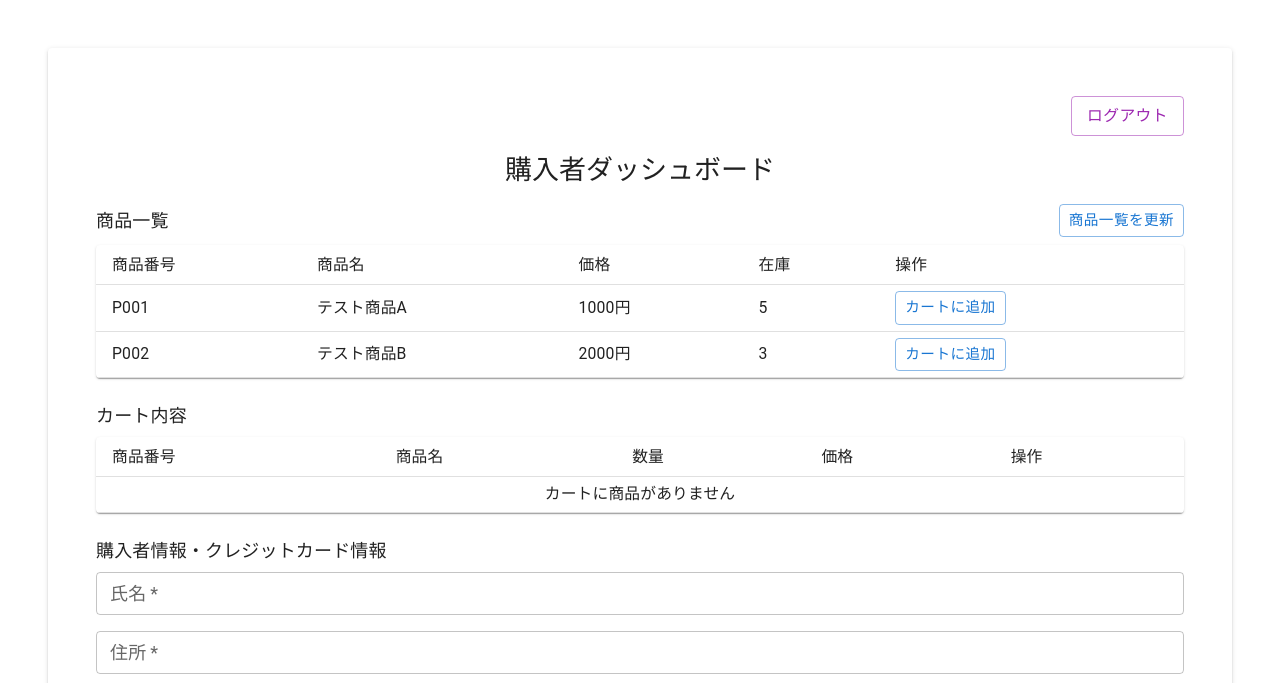
Test: PurchaserDashboard › カートに商品追加時に送料表示が更新される
This screenshot has width=1280, height=683.
Expected: the text "送料:" is not shown
Expected: the text "総合計:" is not shown
Click the button "カートに追加" in the row of "P001" at (950, 308), box [895,291,1006,325]
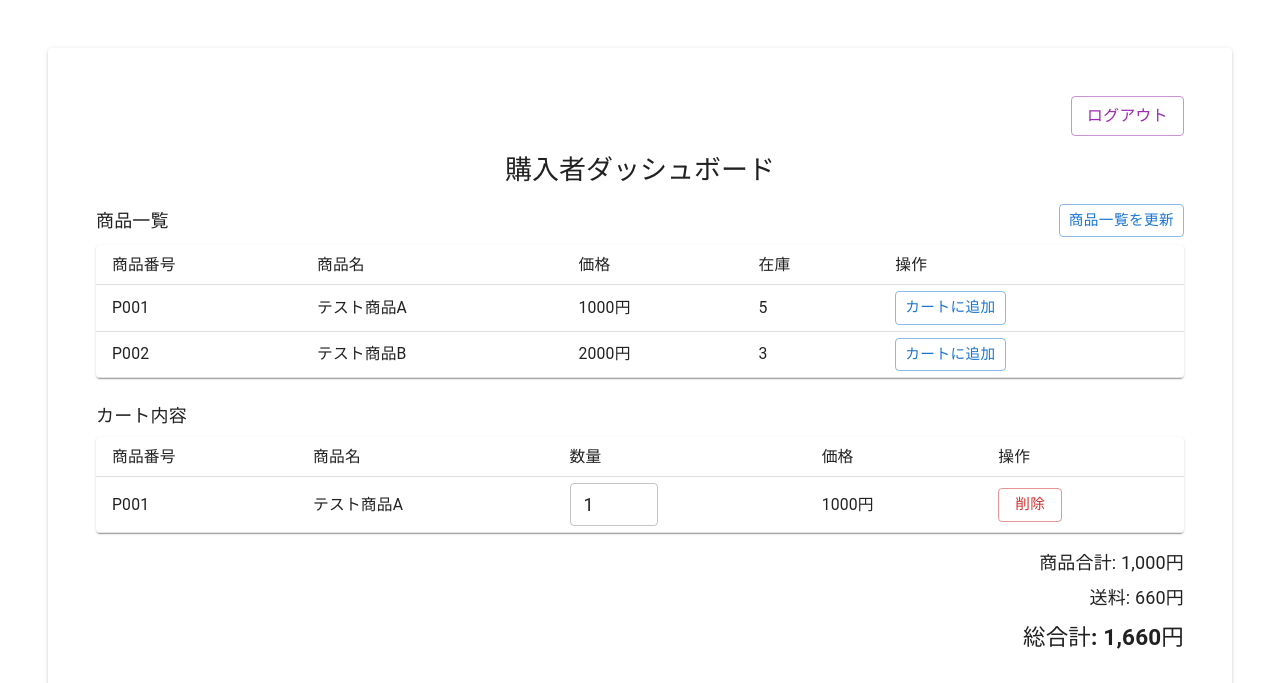
Result: the text "商品合計: 1,000円" is shown at [1039,549,1184,576]
Result: the text "送料: 660円" is shown at [1090,584,1184,611]
Result: the heading "総合計: 1,660円" is shown at [1023,619,1184,655]
